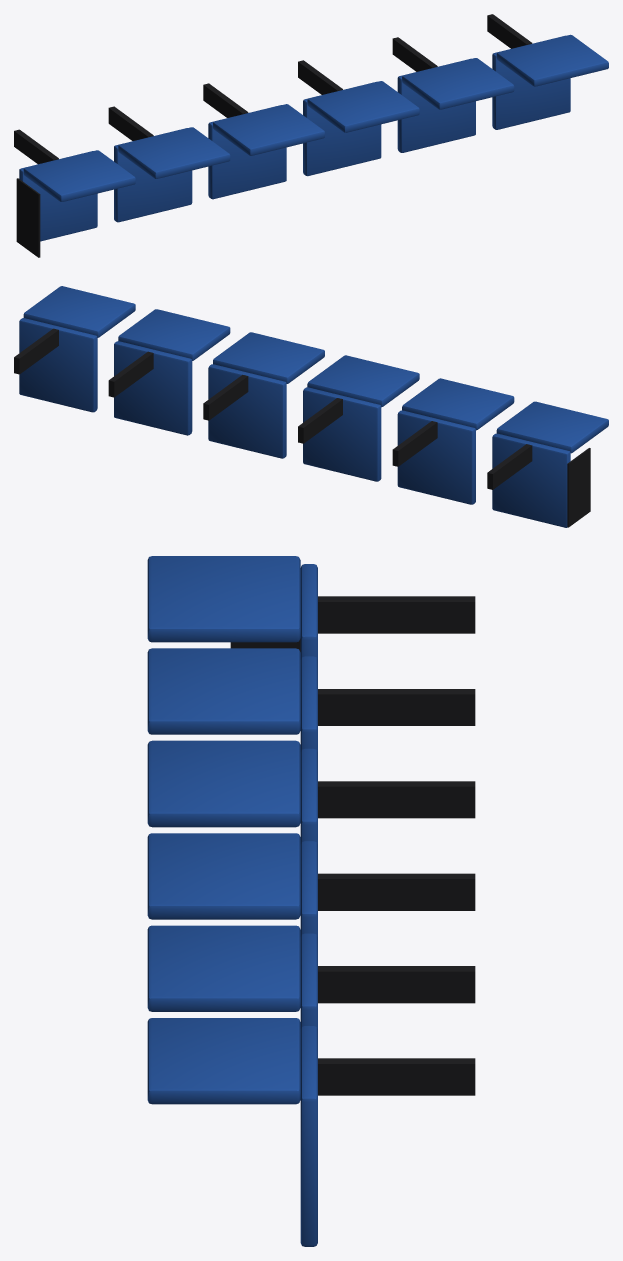
File: SeatRow.obj
3 renders of one model, top to bottom at view 1: azimuth 30°, elevation 25°; view 2: azimuth 150°, elevation 25°; view 3: azimuth 270°, elevation 25°, orthographic. The views are drawn at different scales.
Parts seen in each view (by area): view 1: SeatRow_Plastic, SeatRow_Frame; view 2: SeatRow_Plastic, SeatRow_Frame; view 3: SeatRow_Plastic, SeatRow_Frame.
Boxes of the visible parts, x1,y1,x2,y2 form: SeatRow_Plastic: [19, 34, 608, 241]; SeatRow_Frame: [14, 14, 532, 257]; SeatRow_Plastic: [19, 286, 608, 527]; SeatRow_Frame: [14, 328, 590, 527]; SeatRow_Plastic: [147, 556, 317, 1246]; SeatRow_Frame: [230, 596, 475, 1095].
Bounding box in the file's own units: 2.91 × 0.4 × 0.75.
2 materials, 2 textured.
